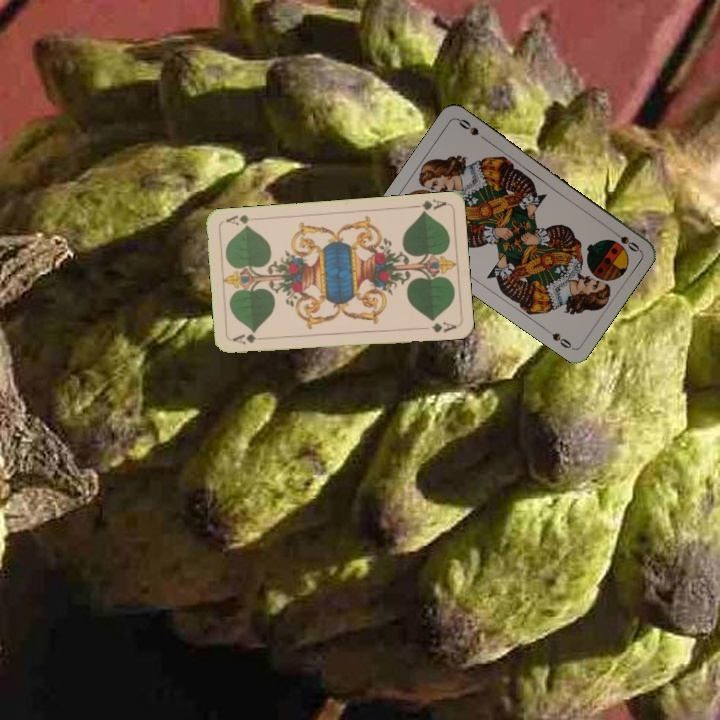GA: (408, 195, 449, 216), (229, 330, 270, 347)
SO: (607, 225, 642, 255)
